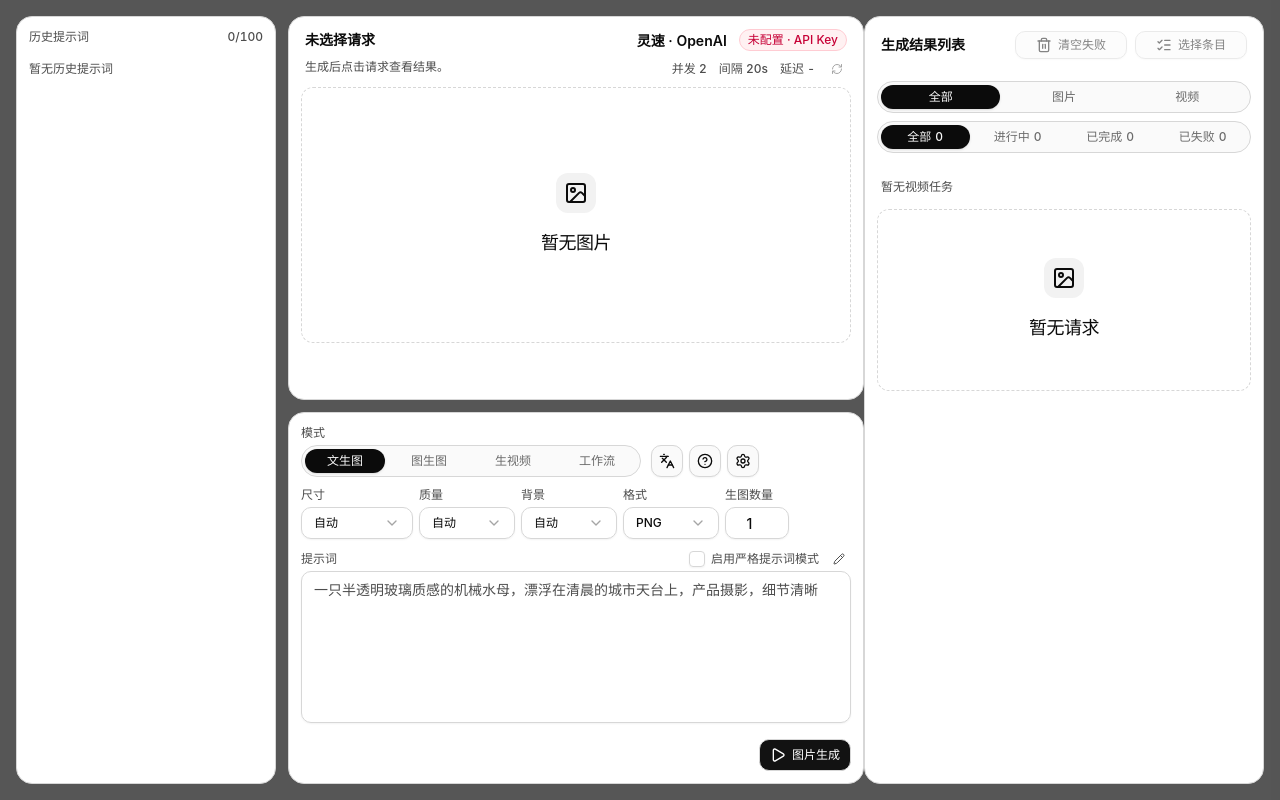
mode navigation › shows all four modes and can open video generation from workflow
The width and height of the screenshot is (1280, 800).
Click the tab "工作流".
click(597, 461)  # box [557, 449, 637, 473]
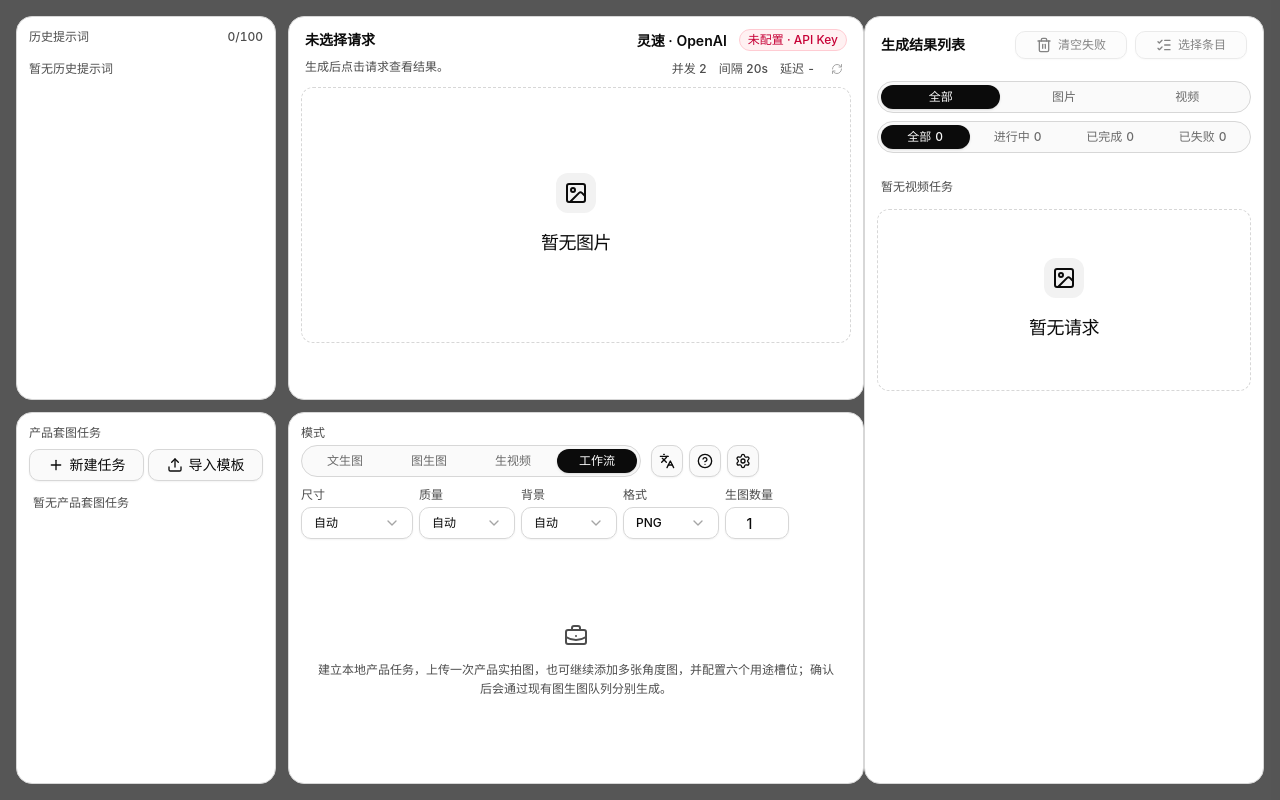
Click the tab "生视频".
click(513, 461)  # box [473, 449, 553, 473]
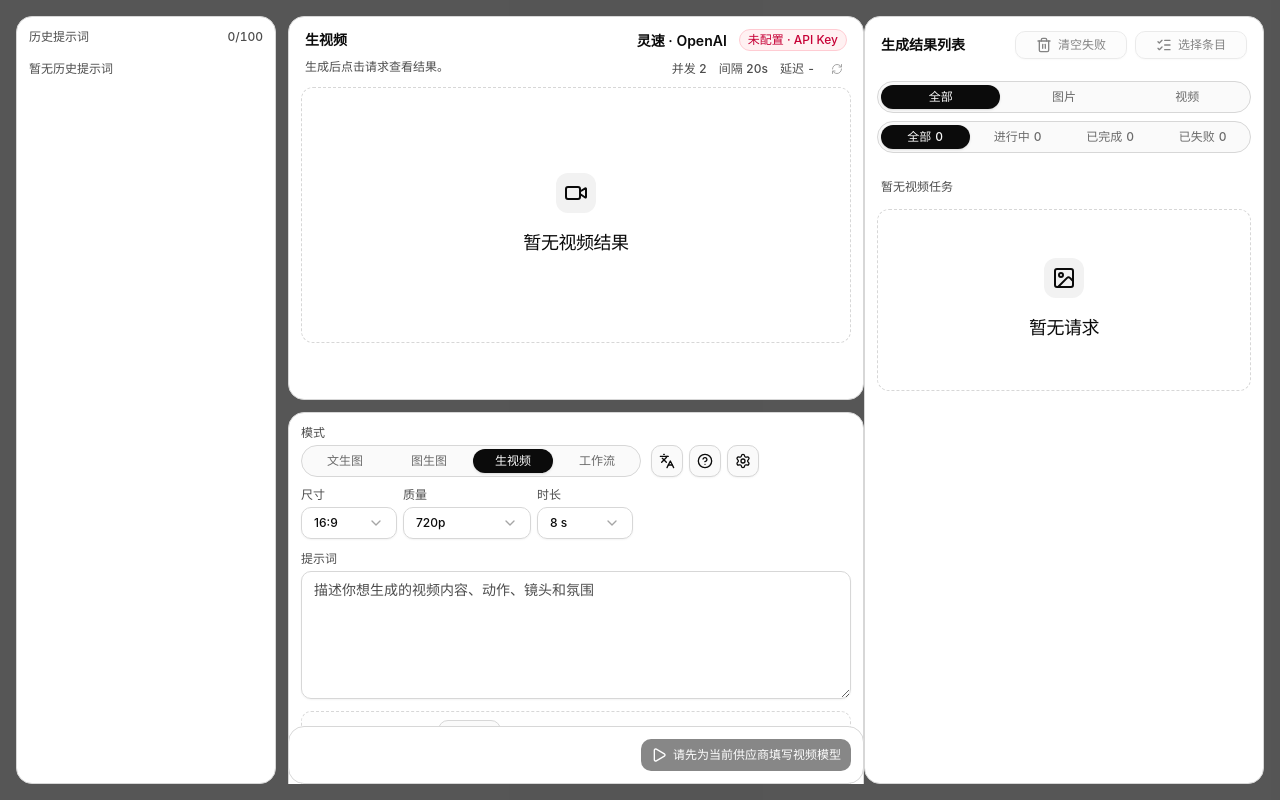
Check: the text "尺寸" is shown, box [301, 487, 325, 502]
Check: the text box labelled "提示词" is shown, box [301, 571, 851, 699]
Check: the text "时长" is shown, box [537, 487, 561, 502]
